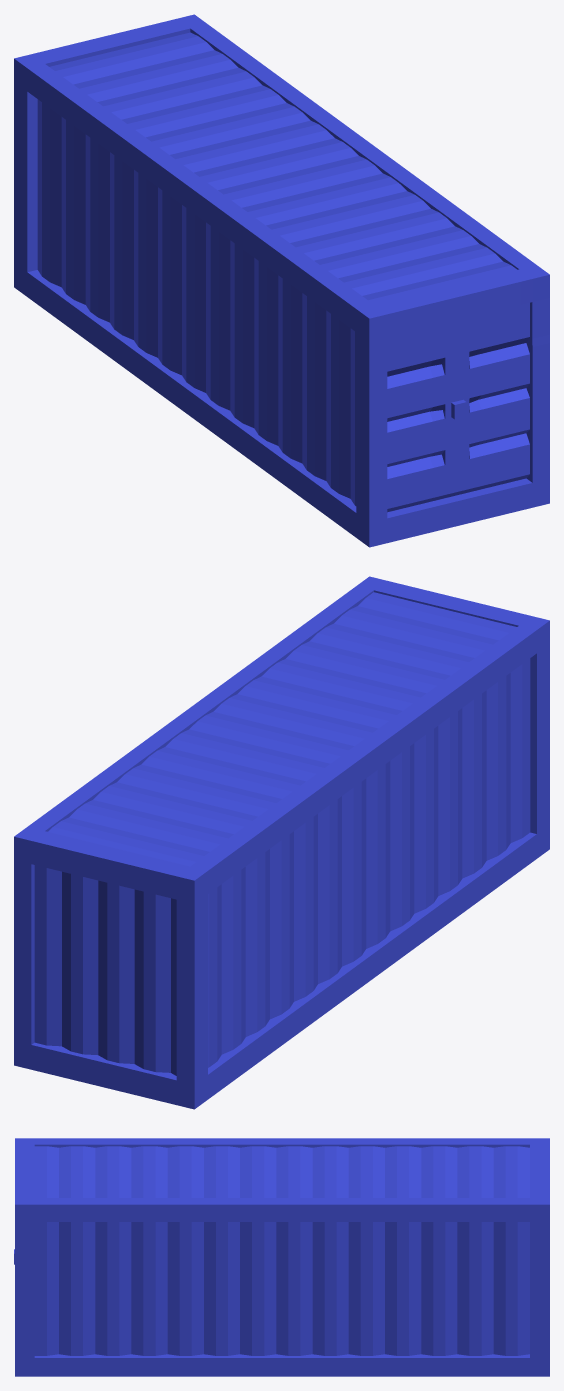
The model's file is ContenedorAzul.fbx.
3 views of the same model, one above another, from view 1: azimuth 30°, elevation 25°; view 2: azimuth 150°, elevation 25°; view 3: azimuth 270°, elevation 25° (orthographic). The views are drawn at different scales.
Visible parts, largest first — view 1: Cubo.001; view 2: Cubo.001; view 3: Cubo.001.
Part boxes in pixels (box(x1,y1,x2,y2)): Cubo.001: box(14, 14, 549, 547); Cubo.001: box(14, 576, 549, 1109); Cubo.001: box(14, 1138, 549, 1376).
Bounding box in the file's own units: 570 × 690 × 1947.
